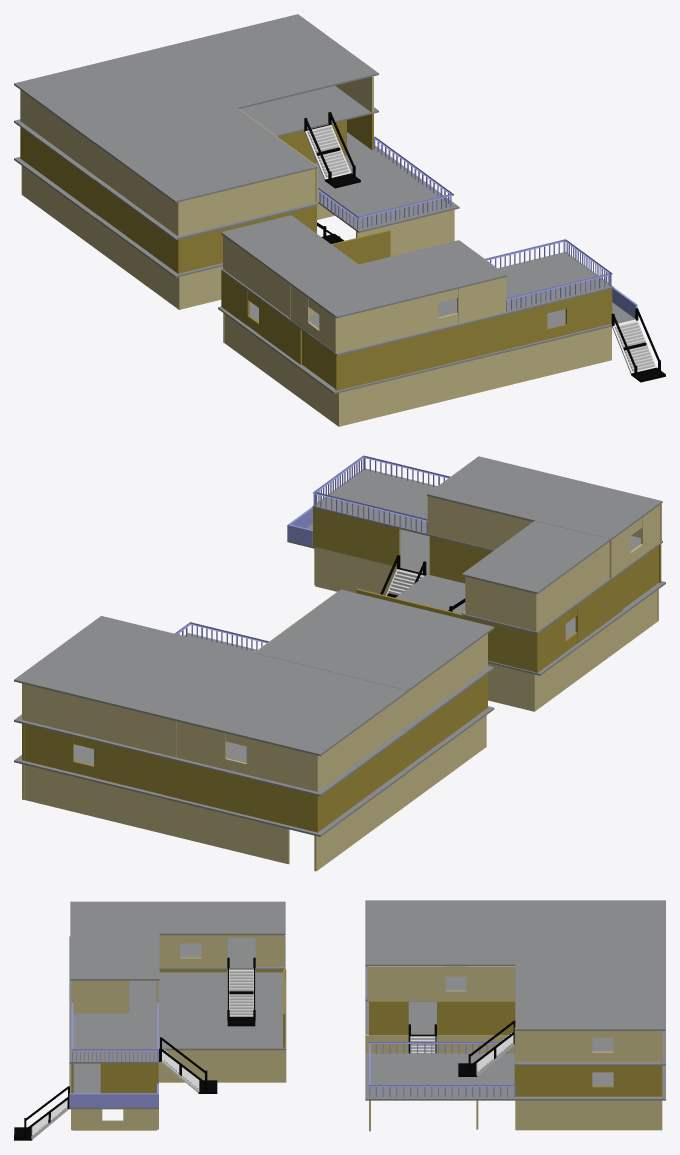
File: dual_ruins.glb
3 renders of one model, top to bottom at view 1: azimuth 30°, elevation 25°; view 2: azimuth 150°, elevation 25°; view 3: azimuth 270°, elevation 25°, orthographic. The views are drawn at different scales.
Parts seen in each view (by area): view 1: Cube.038_34, Cube.037_33, Cube.040_36, Cube.065_61, Cube.048_44, Cube.009_9, Cube.004_4, Cube.074_76, Cube.031_27, Cube.017_16, Cube.054_50, Cube.049_45 (+29 smaller); view 2: Cube.038_34, Cube.037_33, Cube.065_61, Cube.006_6, Cube.014_14, Cube.074_76, Cube.034_30, Cube.004_4, Cube.033_29, Cube.030_26, Cube.054_50, Cube.041_37 (+25 smaller); view 3: Cube.038_34, Cube.037_33, Cube.046_42, Cube.065_61, Layer1 (×2), Cube.009_9, Cube.029_25, Cube.025_21, Cube.054_50, Cube.074_76, Cube.028_24, Cube.044_40 (+24 smaller).
Part boxes in pixels (bbox=[...]): Cube.038_34: bbox=[14, 14, 378, 143]; Cube.037_33: bbox=[95, 108, 317, 202]; Cube.040_36: bbox=[337, 326, 611, 426]; Cube.065_61: bbox=[288, 240, 506, 318]; Cube.048_44: bbox=[335, 314, 506, 390]; Cube.009_9: bbox=[314, 148, 459, 232]; Cube.004_4: bbox=[21, 166, 181, 309]; Cube.074_76: bbox=[221, 215, 358, 282]; Cube.031_27: bbox=[180, 169, 315, 235]; Cube.017_16: bbox=[14, 86, 378, 181]; Cube.054_50: bbox=[498, 251, 613, 314]; Cube.049_45: bbox=[506, 289, 612, 349]; Cube.038_34: bbox=[14, 616, 407, 756]; Cube.037_33: bbox=[254, 589, 494, 691]; Cube.065_61: bbox=[427, 456, 662, 540]; Cube.006_6: bbox=[24, 765, 289, 864]; Cube.014_14: bbox=[163, 758, 316, 831]; Cube.074_76: bbox=[462, 521, 610, 594]; Cube.034_30: bbox=[24, 684, 176, 757]; Cube.004_4: bbox=[314, 715, 486, 871]; Cube.033_29: bbox=[24, 724, 163, 794]; Cube.030_26: bbox=[177, 721, 315, 791]; Cube.054_50: bbox=[312, 468, 437, 536]; Cube.041_37: bbox=[536, 590, 657, 710]; Cube.038_34: bbox=[515, 900, 665, 1030]; Cube.037_33: bbox=[365, 900, 515, 966]; Cube.046_42: bbox=[69, 970, 286, 1050]; Cube.065_61: bbox=[70, 901, 159, 980]; Layer1 (×2): bbox=[365, 1034, 662, 1130]; Cube.009_9: bbox=[365, 1053, 515, 1100]; Cube.029_25: bbox=[367, 966, 515, 1000]; Cube.025_21: bbox=[514, 1062, 662, 1096]; Cube.054_50: bbox=[69, 1012, 158, 1063]; Cube.074_76: bbox=[159, 901, 285, 935]; Cube.028_24: bbox=[514, 1027, 662, 1061]; Cube.044_40: bbox=[159, 1050, 286, 1082].
Size of the model in its own units: 1.48 by 0.5184 by 2.95.
